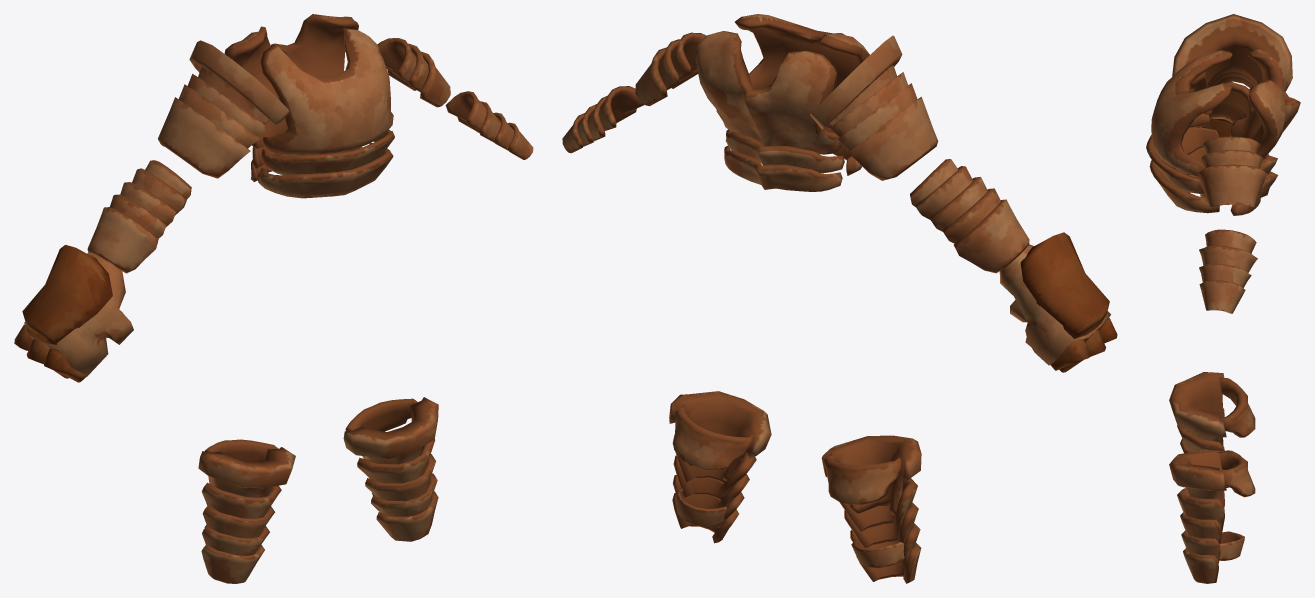
Rendered from FlowerBoi_Armour_FINAL.fbx.
3 views of the same model, side by side, from view 1: azimuth 30°, elevation 25°; view 2: azimuth 150°, elevation 25°; view 3: azimuth 270°, elevation 25° (orthographic). The views are drawn at different scales.
Visible parts, largest first — view 1: FrontChest, GloveWArmor, UpperRightArm, LeftLegArmor, RightLegArmor, LowerRightArm, BackChest, UpperLeftArm, LowerLeftArm; view 2: BackChest, LeftLegArmor, RightLegArmor, GloveWArmor, UpperRightArm, LowerRightArm, FrontChest, UpperLeftArm, LowerLeftArm; view 3: FrontChest, LeftLegArmor, UpperRightArm, RightLegArmor, BackChest, UpperLeftArm, LowerLeftArm, LowerRightArm, GloveWArmor.
Boxes of the visible parts, left/top/right/bottom form: FrontChest: left=257, top=28, right=394, bottom=198; GloveWArmor: left=14, top=245, right=133, bottom=382; UpperRightArm: left=158, top=40, right=289, bottom=178; LeftLegArmor: left=343, top=397, right=438, bottom=541; RightLegArmor: left=198, top=439, right=295, bottom=583; LowerRightArm: left=87, top=160, right=191, bottom=273; BackChest: left=224, top=14, right=362, bottom=181; UpperLeftArm: left=377, top=38, right=450, bottom=107; LowerLeftArm: left=445, top=91, right=533, bottom=159; BackChest: left=695, top=31, right=844, bottom=191; LeftLegArmor: left=669, top=391, right=771, bottom=543; RightLegArmor: left=821, top=435, right=921, bottom=583; GloveWArmor: left=999, top=232, right=1117, bottom=372; UpperRightArm: left=810, top=35, right=938, bottom=180; LowerRightArm: left=910, top=159, right=1029, bottom=273; FrontChest: left=735, top=14, right=869, bottom=175; UpperLeftArm: left=635, top=32, right=705, bottom=106; LowerLeftArm: left=562, top=86, right=644, bottom=153; FrontChest: left=1146, top=50, right=1232, bottom=213; LeftLegArmor: left=1169, top=449, right=1255, bottom=583; UpperRightArm: left=1172, top=14, right=1292, bottom=92; RightLegArmor: left=1169, top=372, right=1255, bottom=487; BackChest: left=1230, top=49, right=1300, bottom=215; UpperLeftArm: left=1197, top=136, right=1266, bottom=207; LowerLeftArm: left=1199, top=229, right=1257, bottom=313; LowerRightArm: left=1196, top=82, right=1253, bottom=128; GloveWArmor: left=1189, top=116, right=1232, bottom=197.
Bounding box in the file's own units: 1.27 × 1.25 × 0.3632.
